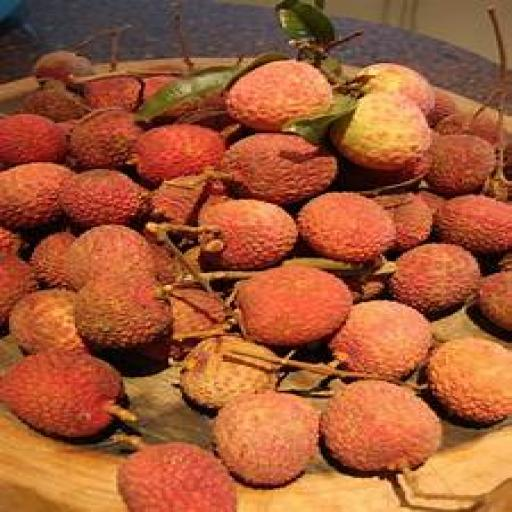lychee: (321, 381, 441, 472), (0, 350, 122, 438), (214, 391, 318, 486), (237, 265, 352, 346), (330, 93, 432, 172), (221, 134, 336, 204), (119, 443, 236, 511), (330, 301, 432, 378), (226, 60, 332, 131), (180, 335, 277, 409), (428, 338, 511, 423), (76, 274, 170, 349), (198, 200, 298, 269), (299, 193, 395, 262), (390, 243, 480, 314), (64, 226, 154, 290), (135, 125, 225, 184), (0, 163, 75, 230), (60, 169, 143, 228), (10, 289, 86, 353), (435, 195, 511, 254), (69, 110, 143, 168), (426, 135, 496, 196), (355, 64, 434, 114), (0, 113, 68, 165), (376, 193, 432, 250), (0, 255, 36, 325), (30, 233, 75, 288), (32, 50, 93, 83), (85, 76, 143, 110), (478, 272, 511, 331)
